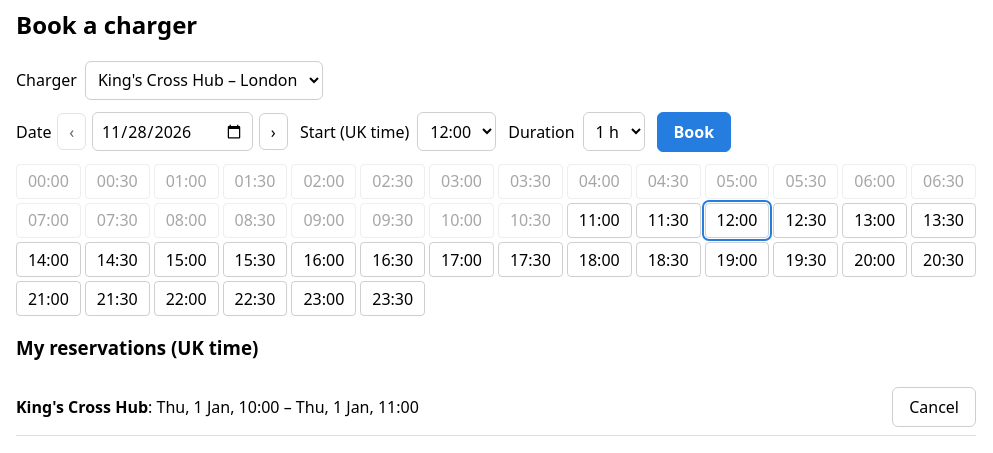
Scenario: ReservationsSection › cancels reservation after confirmation and reloads list
Click the button "Cancel" at (934, 407), box [892, 387, 976, 427]
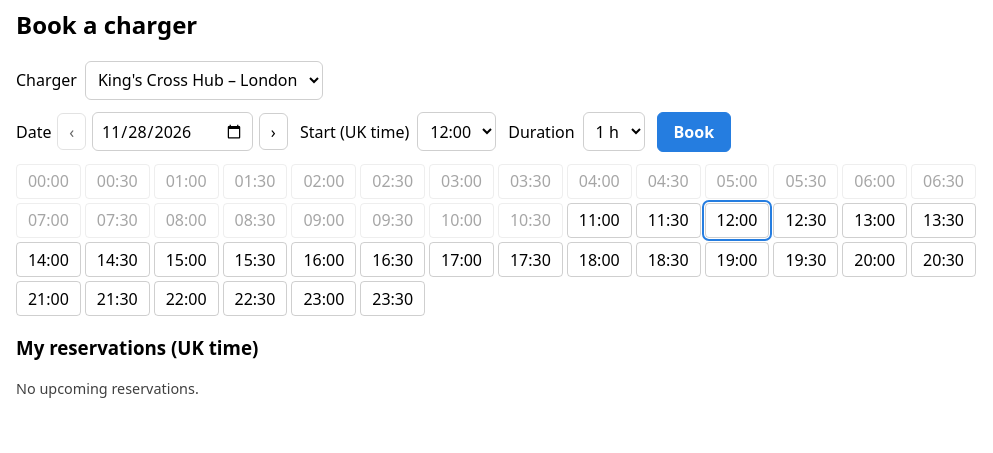
Expected: the text "No upcoming reservations." is shown, [16, 379, 199, 398]
